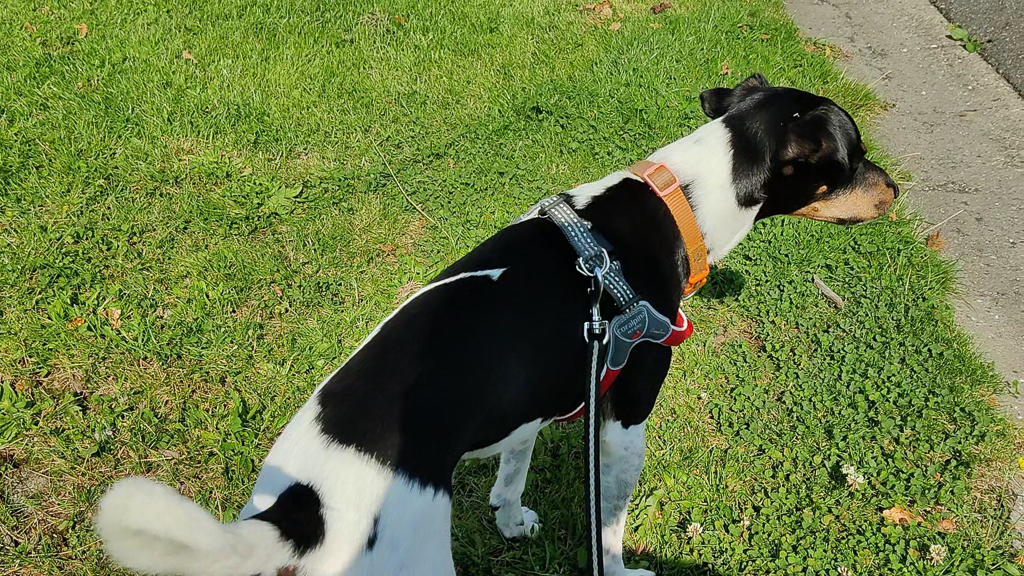Dog: (76, 64, 919, 576)
